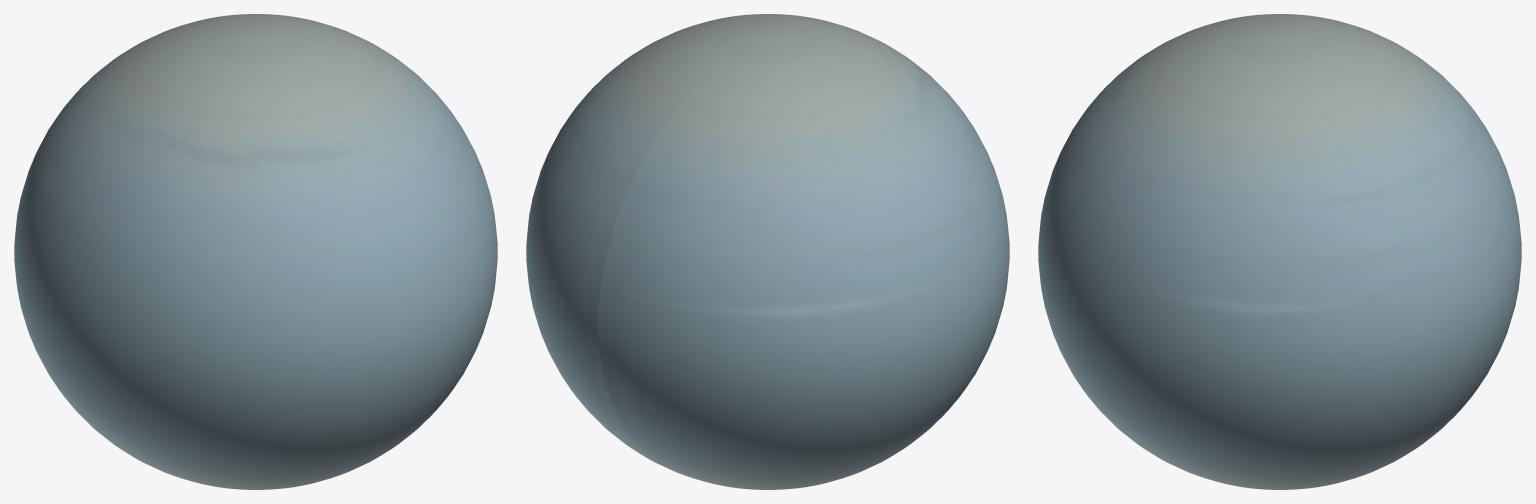
File: neptune.fbx
3 views of the same model, side by side, from view 1: azimuth 30°, elevation 25°; view 2: azimuth 150°, elevation 25°; view 3: azimuth 270°, elevation 25° (orthographic).
Visible parts, largest first — view 1: Neptune; view 2: Neptune; view 3: Neptune.
Boxes of the visible parts, box(x1,y1,x2,y2) form: Neptune: box(14, 14, 497, 489); Neptune: box(526, 14, 1009, 489); Neptune: box(1038, 14, 1521, 489).
Bounding box in the file's own units: 100000 × 98292 × 100000.
